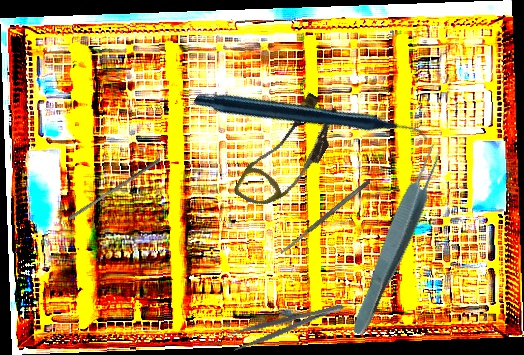Cannula: (232, 84, 347, 223)
Dressing Forceps: (227, 300, 348, 353)
Handpiece: (191, 0, 431, 240)
Pusher: (67, 154, 162, 224)
Spatula Surgical: (278, 178, 372, 256)
Tissue Forceps: (345, 140, 451, 340)
